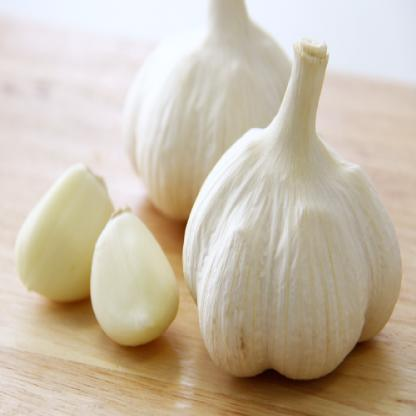garlic: (190, 124, 416, 383), (130, 0, 282, 184), (15, 164, 108, 298), (92, 210, 180, 341)
